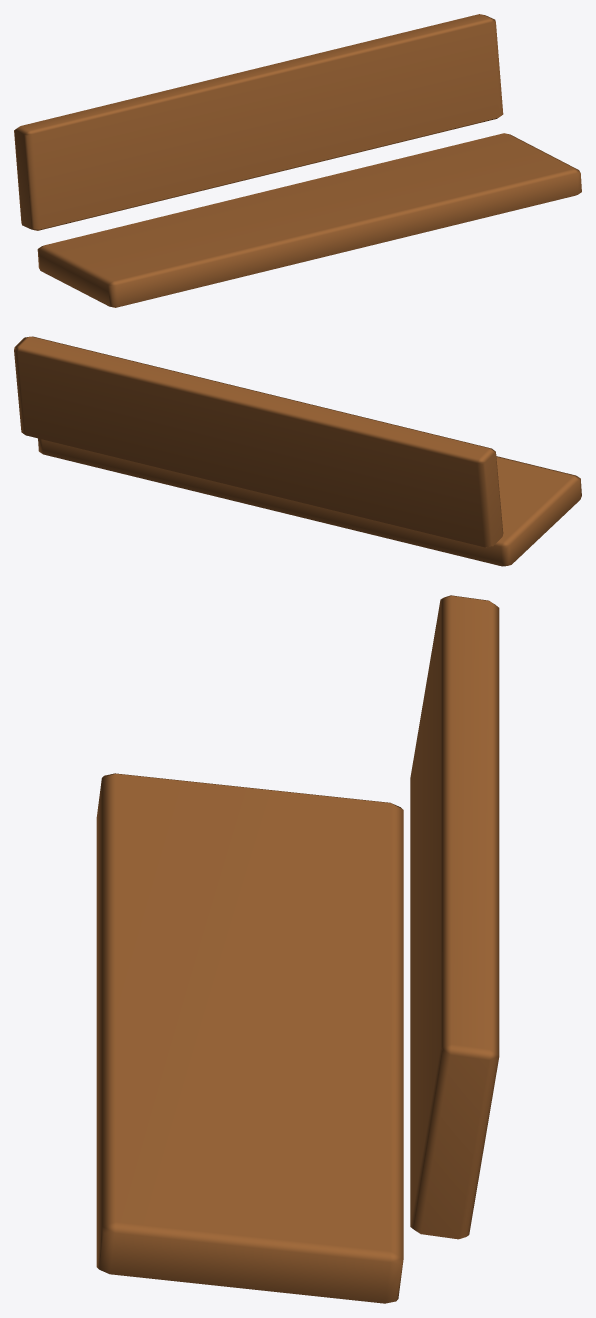
Rendered from BenchPlanks.fbx.
The picture shows the model from 3 angles, top to bottom: view 1: azimuth 30°, elevation 25°; view 2: azimuth 150°, elevation 25°; view 3: azimuth 270°, elevation 25°; orthographic projection. The views are drawn at different scales.
Visible parts, largest first — view 1: WoodPlank01, WoodPlank02; view 2: WoodPlank01, WoodPlank02; view 3: WoodPlank02, WoodPlank01.
Part boxes in pixels (x1=…): WoodPlank01: x1=14, y1=14, x2=503, y2=230; WoodPlank02: x1=37, y1=133, x2=581, y2=307; WoodPlank01: x1=14, y1=336, x2=503, y2=547; WoodPlank02: x1=38, y1=438, x2=581, y2=566; WoodPlank02: x1=96, y1=773, x2=403, y2=1303; WoodPlank01: x1=410, y1=595, x2=499, y2=1239.
Bounding box in the file's own units: 3.56 × 0.9359 × 1.32.
